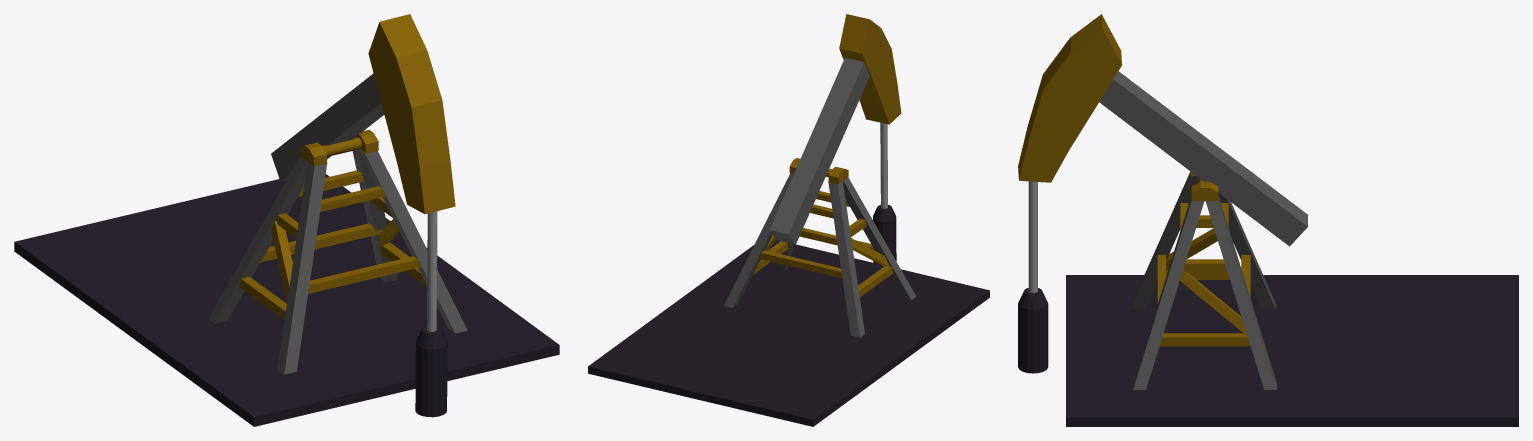
The model's file is Sonda Terrestre Convencional.fbx.
3 views of the same model, side by side, from view 1: azimuth 30°, elevation 25°; view 2: azimuth 150°, elevation 25°; view 3: azimuth 270°, elevation 25° (orthographic). The views are drawn at different scales.
Parts seen in each view (by area): view 1: Sonda Terrestre Convencional; view 2: Sonda Terrestre Convencional; view 3: Sonda Terrestre Convencional.
Part boxes in pixels (x1,y1,x2,y2): Sonda Terrestre Convencional: [14, 14, 559, 426]; Sonda Terrestre Convencional: [588, 14, 989, 426]; Sonda Terrestre Convencional: [1018, 14, 1518, 426].
Size of the model in its own units: 48.34 by 55.37 by 72.64.
